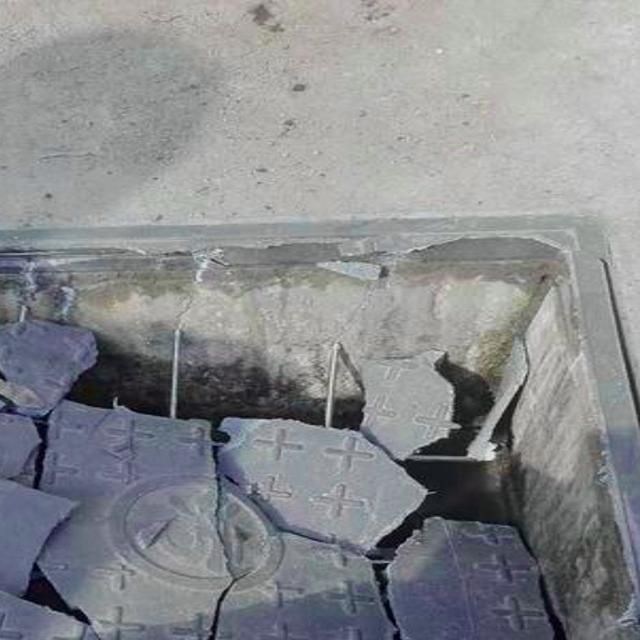broke: (0, 222, 640, 640)
